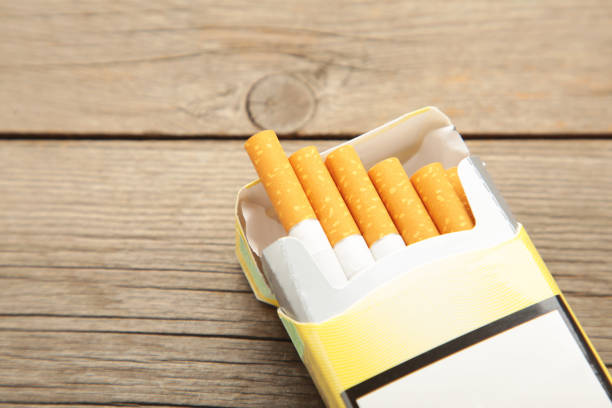cigarette: (231, 104, 612, 408), (244, 128, 348, 288), (289, 145, 375, 279), (324, 143, 406, 262), (367, 156, 441, 246), (409, 162, 474, 234), (446, 165, 478, 226)
